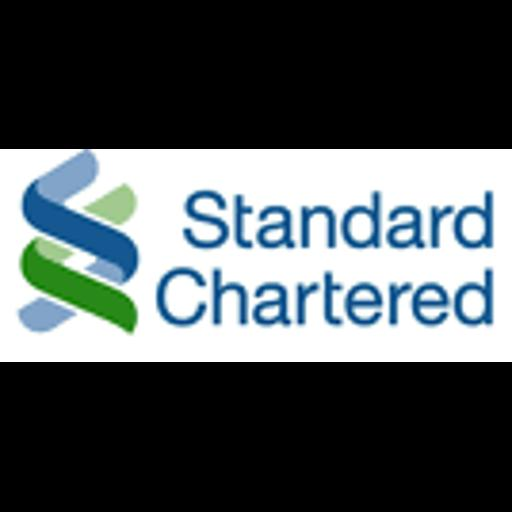Standard Chartered Bank: (0, 149, 512, 362)
